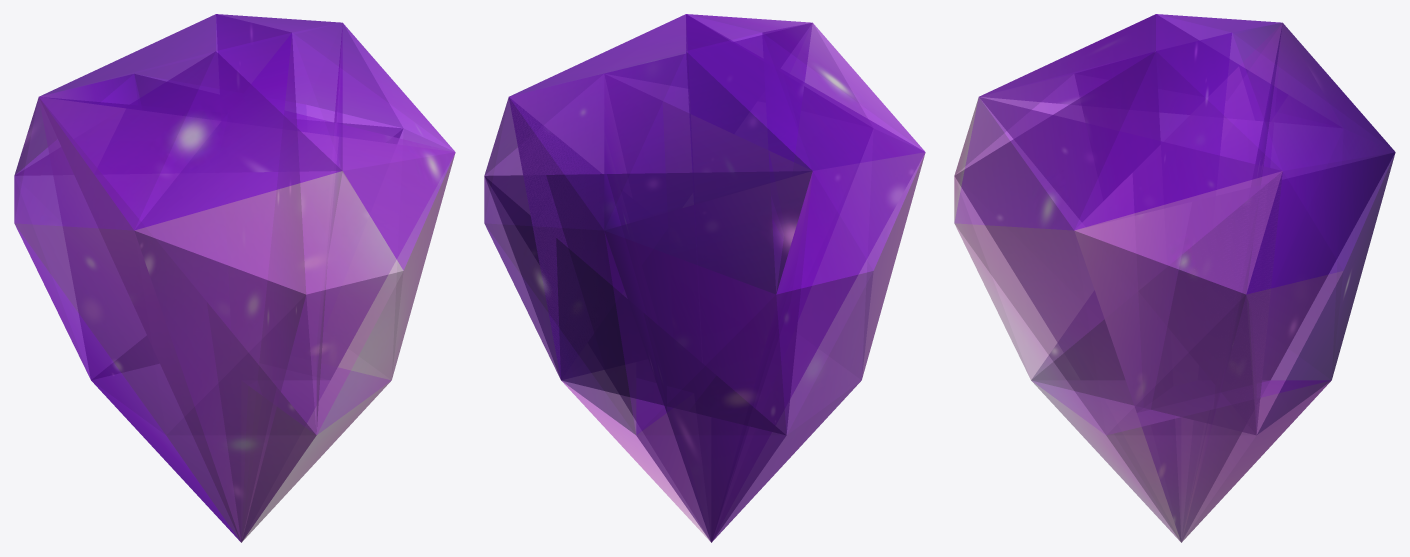
File: gem-overlay.fbx
3 views of the same model, side by side, from view 1: azimuth 30°, elevation 25°; view 2: azimuth 150°, elevation 25°; view 3: azimuth 270°, elevation 25° (orthographic).
Visible parts, largest first — view 1: GD_mesh.001; view 2: GD_mesh.001; view 3: GD_mesh.001.
Boxes of the visible parts, left/top/right/bottom form: GD_mesh.001: left=14, top=14, right=455, bottom=542; GD_mesh.001: left=484, top=14, right=925, bottom=542; GD_mesh.001: left=954, top=14, right=1395, bottom=542.
Bounding box in the file's own units: 45.61 × 57.14 × 44.78.
1 material, 1 textured.
